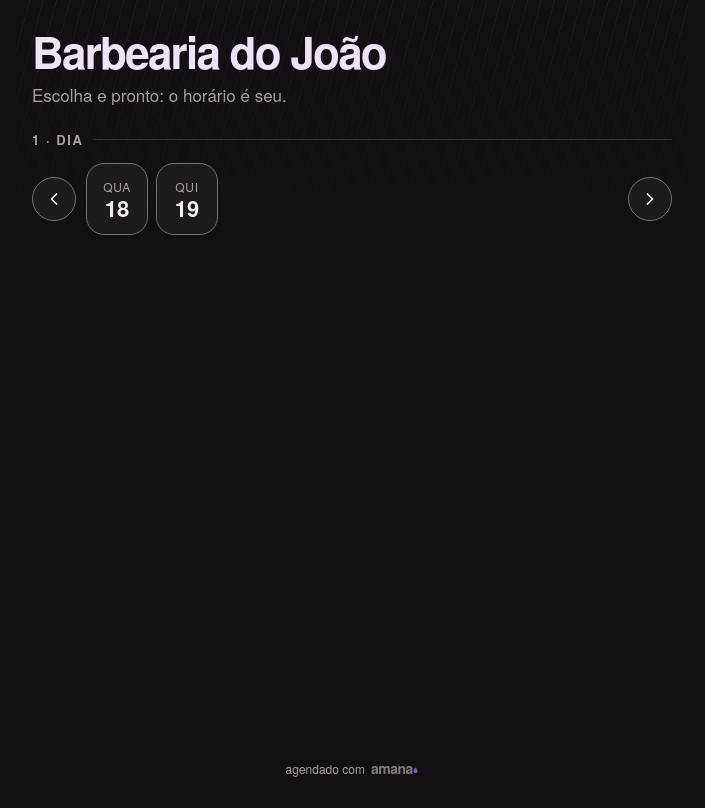
Test: página pública de agendamento › aviso de privacidade sem WhatsApp do negócio: orienta a falar com o negócio, sem link quebrado
The image size is (705, 808).
Click the button "qua 18". click: click(117, 199)
box: [86,163,148,235]
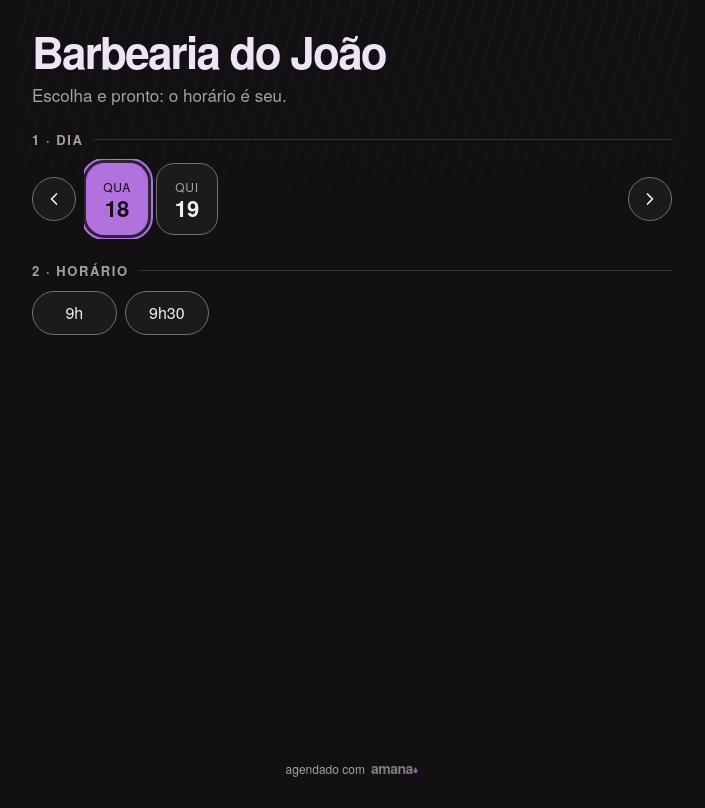
Click the button "9h". click: click(74, 313)
box: [32,291,117,335]
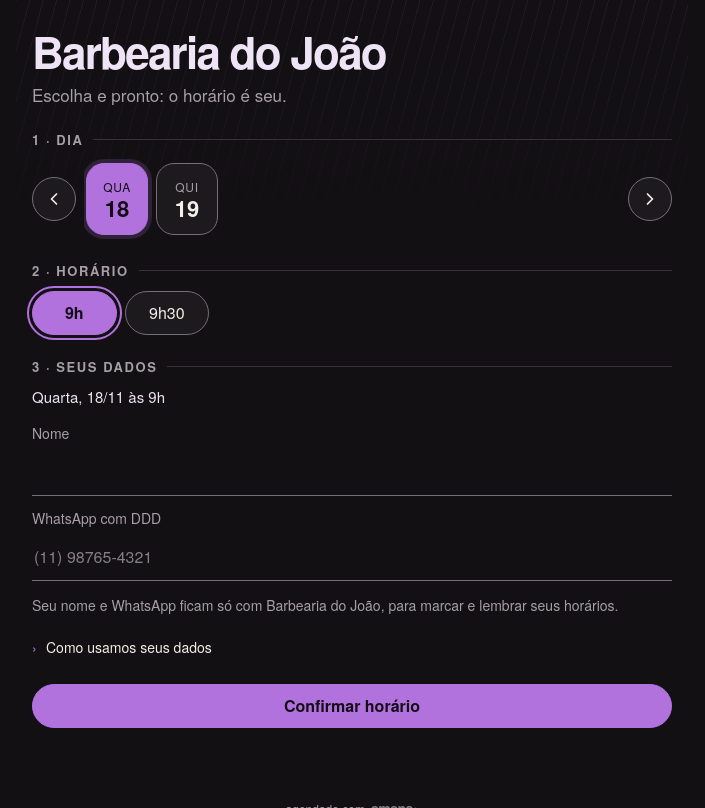
Click the heading "Como usamos seus dados". click: click(129, 647)
box: [46,637,212,657]
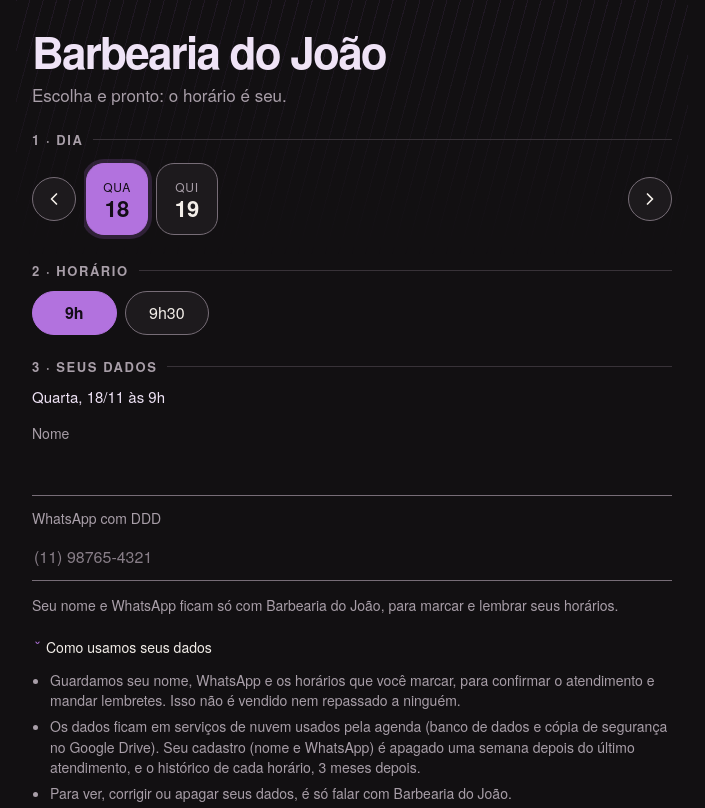
Check: the list item "falar com Barbearia do João" is shown, box [50,783,512,803]
